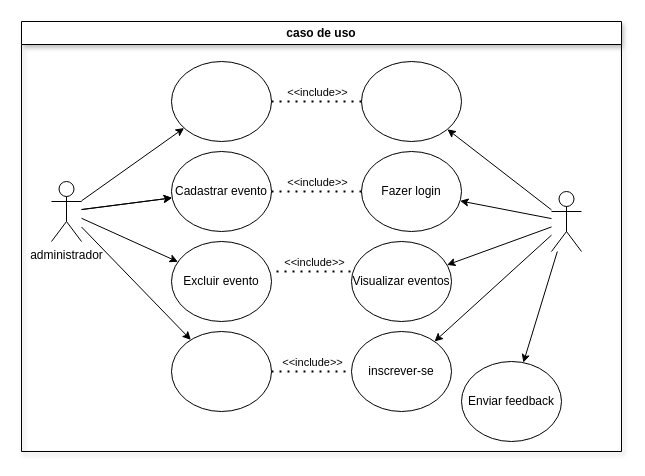
Image size: 645x476. Some labels were removed from this diagram. Each missing label, with the centre of its shape:
Cadastrae-se: point (411, 101)
Gerar relatório: point (221, 101)
Gerenciar usuários: point (221, 371)
usuário: point (566, 221)
